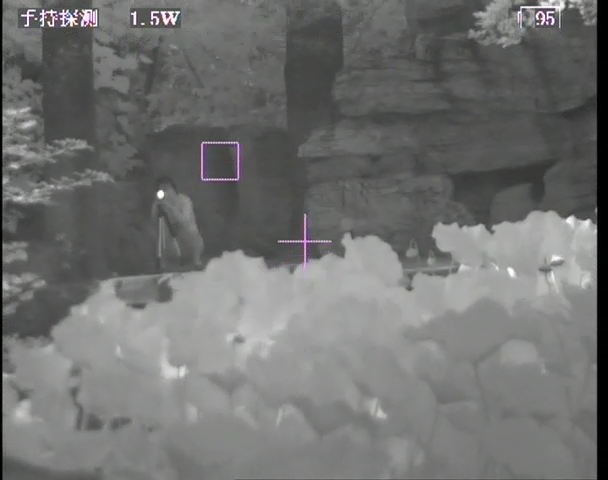my: (152, 187, 168, 202)
